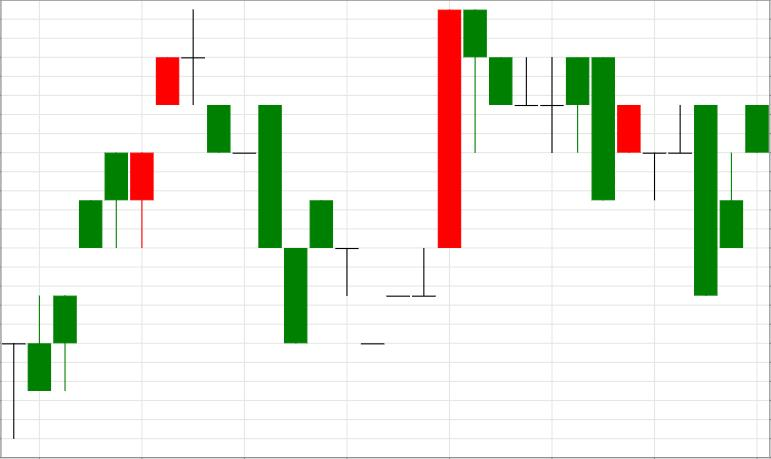evening_star_fall: (1, 9, 231, 439)
hanging_man_fall: (361, 9, 486, 345)
